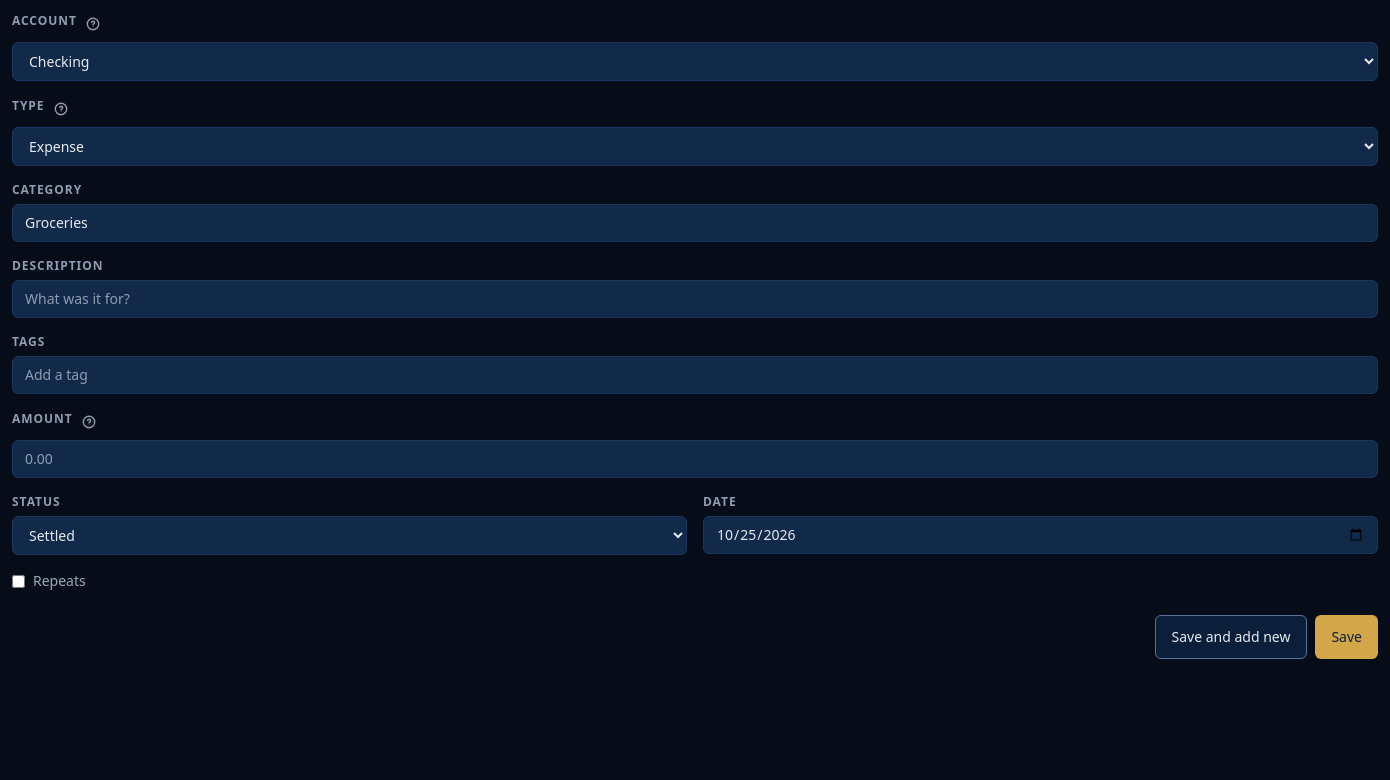
Scenario: TransactionForm › description autocomplete wiring › does NOT overwrite an already-chosen category when picking a description suggestion
Expected: the element named "fab-tx-category-value" holds "10", left=12, top=182, right=1378, bottom=242
In the dropdown labelled "Description": (695, 299) left=12, top=280, right=1378, bottom=318, type "HB"
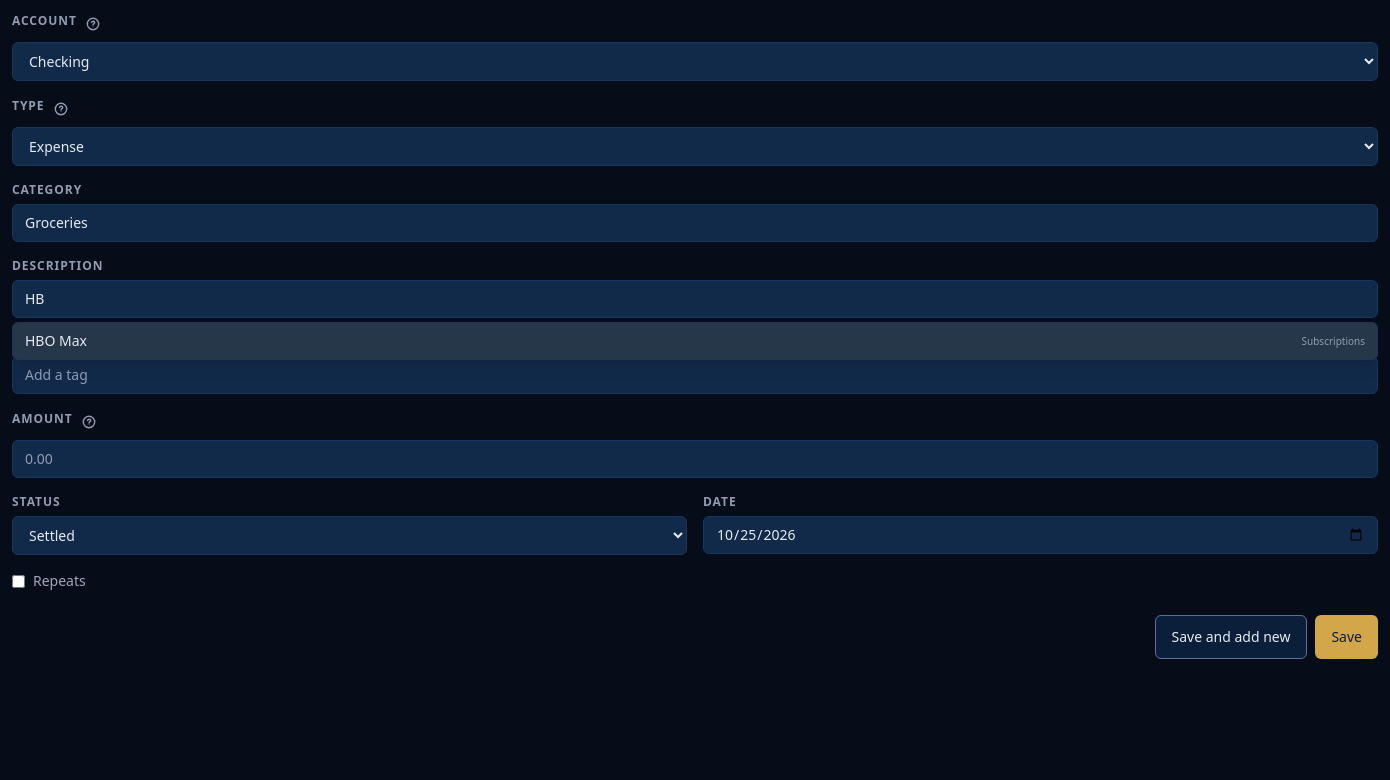
Press the mouse on the option "HBO Max Subscriptions": (56, 340) left=13, top=323, right=1377, bottom=359
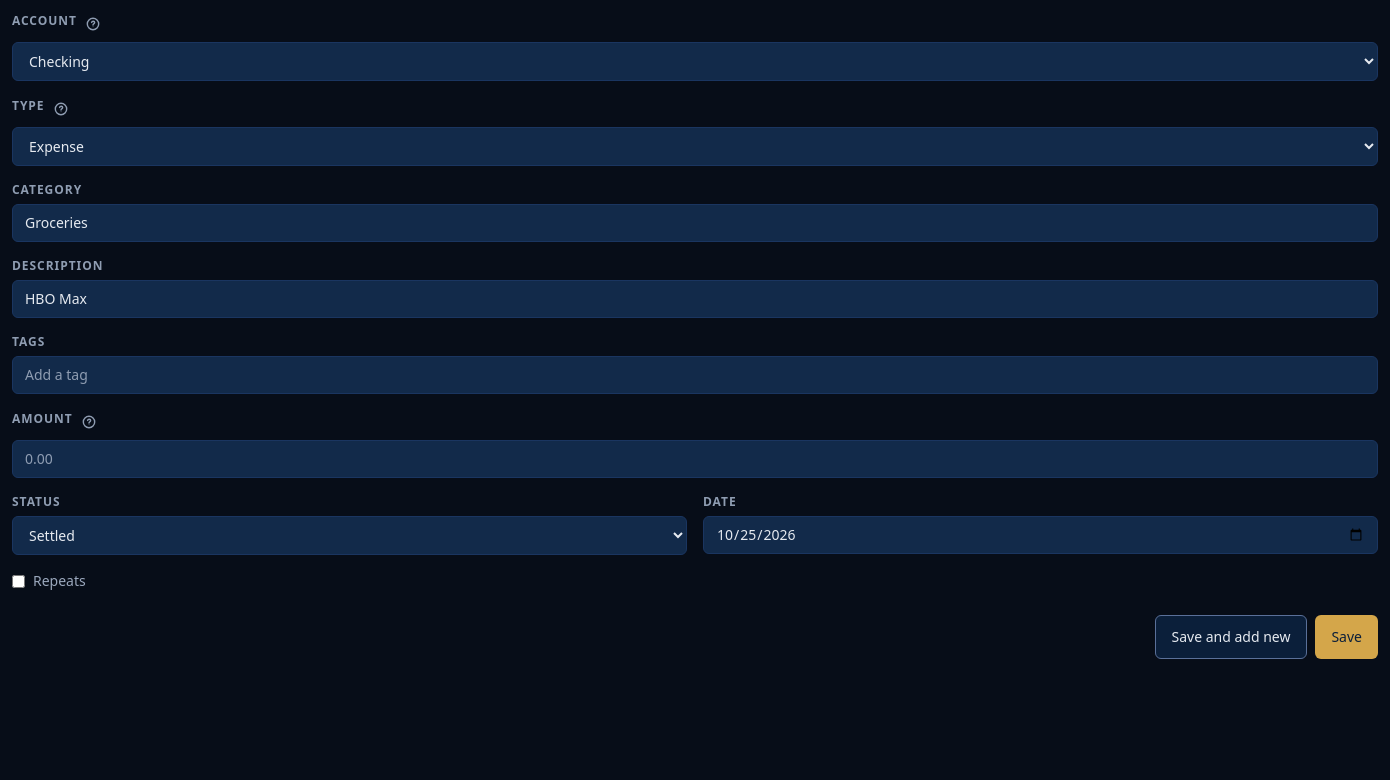
Expected: the element named "fab-tx-category-value" holds "10", left=12, top=182, right=1378, bottom=242
Expected: the dropdown labelled "Description" holds "HBO Max", left=12, top=280, right=1378, bottom=318
